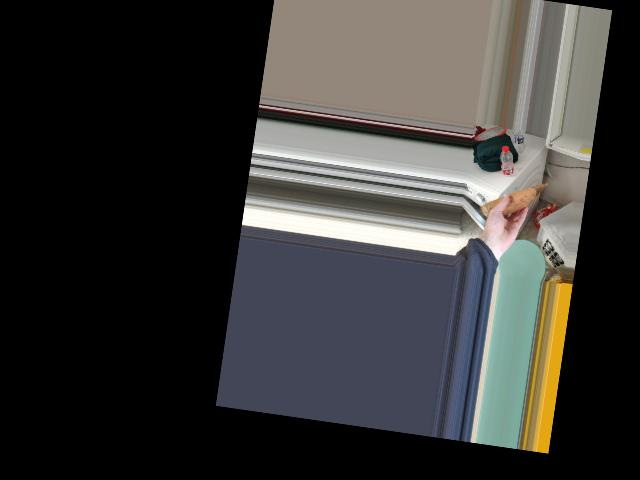sweet_potato: (494, 181, 532, 218)
